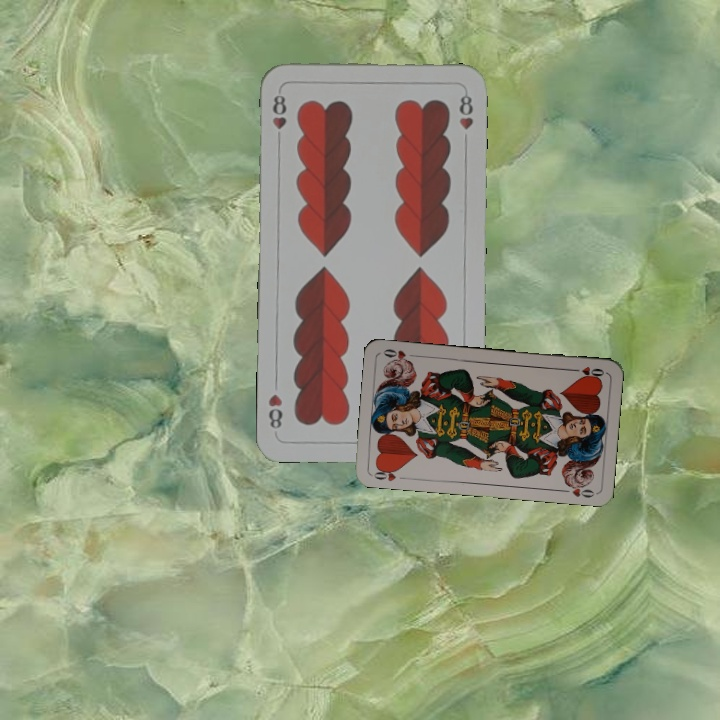H8: (268, 91, 289, 132)
HO: (567, 362, 607, 381), (369, 463, 402, 484)
